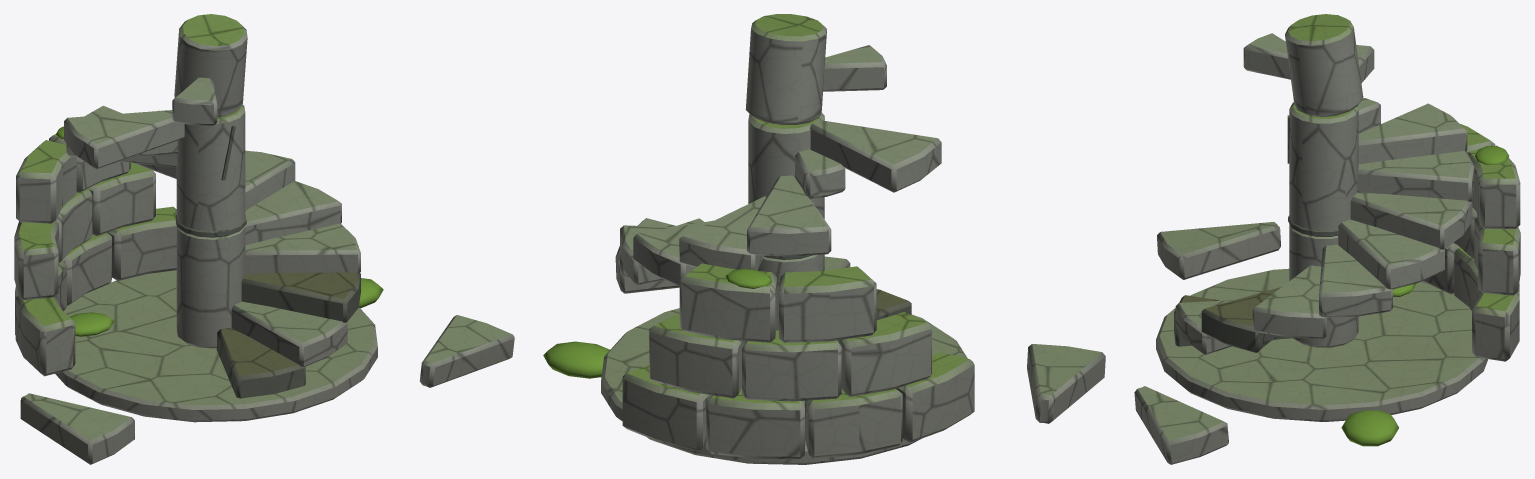
File: stone_stair_spiral_ruin.glb
The picture shows the model from 3 angles, left to right: view 1: azimuth 30°, elevation 25°; view 2: azimuth 150°, elevation 25°; view 3: azimuth 270°, elevation 25°; orthographic projection. The views are drawn at different scales.
Visible parts, largest first — view 1: stone_stair_spiral_ruin; view 2: stone_stair_spiral_ruin; view 3: stone_stair_spiral_ruin.
Part boxes in pixels (x1=…): stone_stair_spiral_ruin: x1=14, y1=14, x2=514, y2=464; stone_stair_spiral_ruin: x1=543, y1=14, x2=1105, y2=464; stone_stair_spiral_ruin: x1=1134, y1=14, x2=1520, y2=464.
Size of the model in its own units: 4.41 by 3.2 by 3.33.
Materials: 4 (4 with a texture image).
